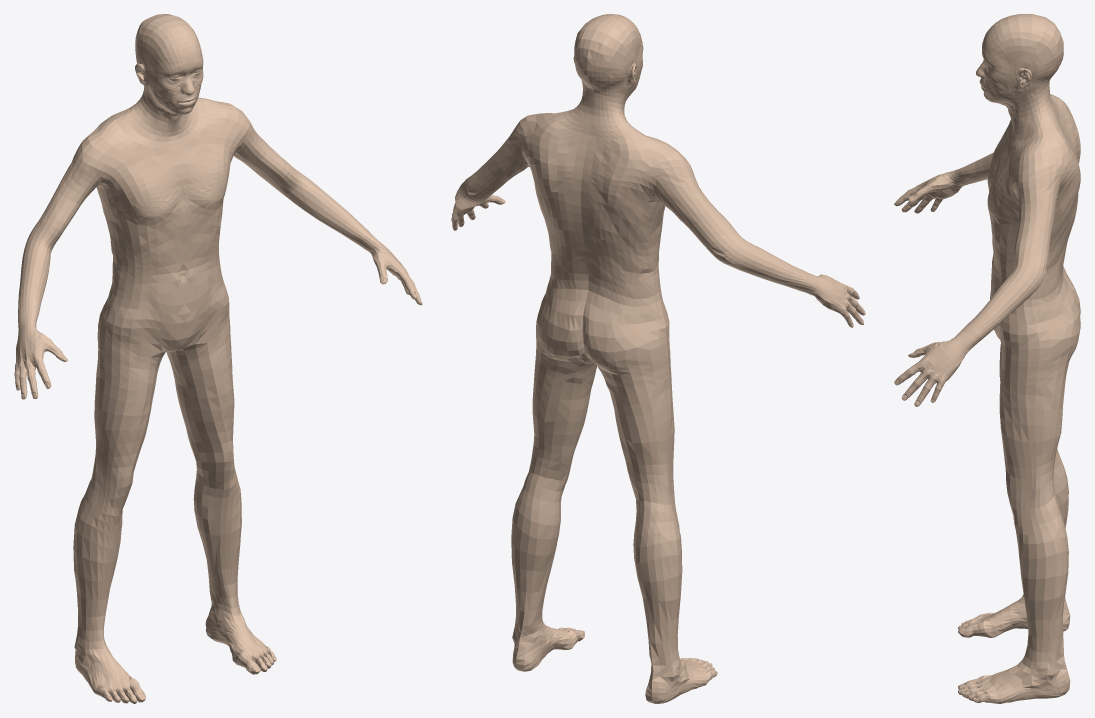
File: male-mature-lean-medium.glb
3 views of the same model, side by side, from view 1: azimuth 30°, elevation 25°; view 2: azimuth 150°, elevation 25°; view 3: azimuth 270°, elevation 25° (orthographic).
Visible parts, largest first — view 1: world; view 2: world; view 3: world.
Part boxes in pixels (x1,y1,x2,y2): world: [14, 14, 422, 703]; world: [451, 14, 865, 703]; world: [894, 14, 1080, 703].
Size of the model in its own units: 1.25 by 1.94 by 0.5061.
